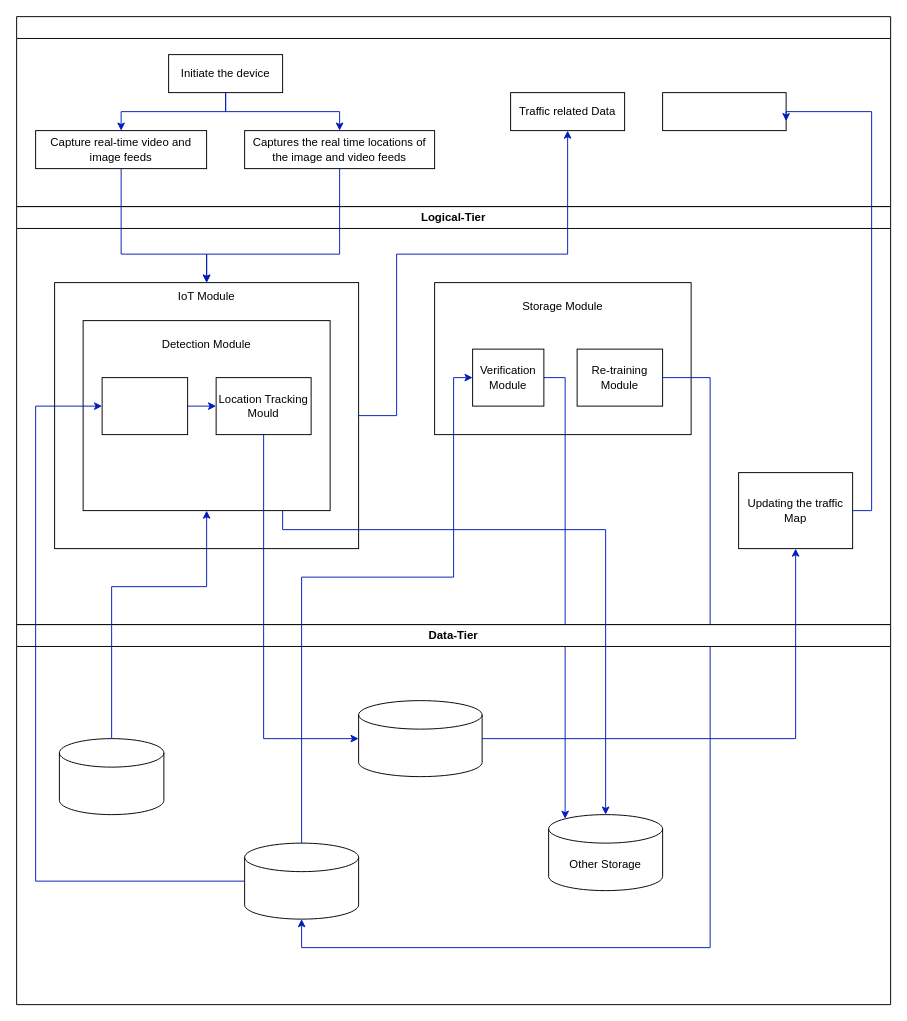
Image size: 907x1021. Some labels were removed from this diagram. The shapes that lost their labels are listed below. From the top down, each one's box as (x1, y1, x2, y2) in pixels, then its label:
(16, 16, 891, 207): Client-Tier
(662, 92, 786, 131): Traffic Map
(101, 377, 188, 435): Traffic Detection Module
(358, 700, 482, 777): Traffic Locations
(58, 738, 164, 815): Internal Storage
(244, 842, 359, 919): Updated Weights
